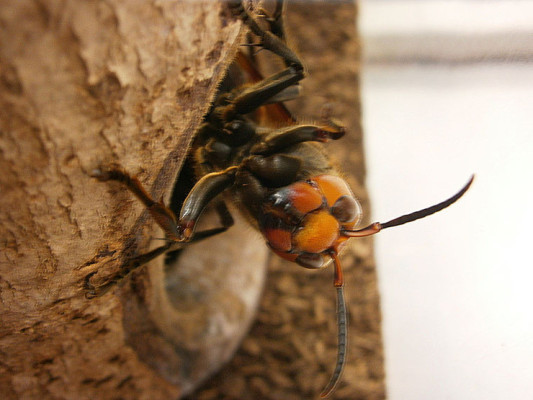asian_giant_hornet: (173, 3, 472, 400)
